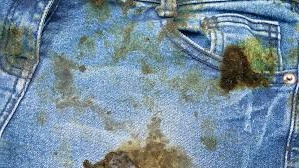earth: (91, 145, 178, 168), (218, 47, 261, 92), (4, 26, 33, 62), (53, 56, 76, 101), (164, 18, 183, 33)
